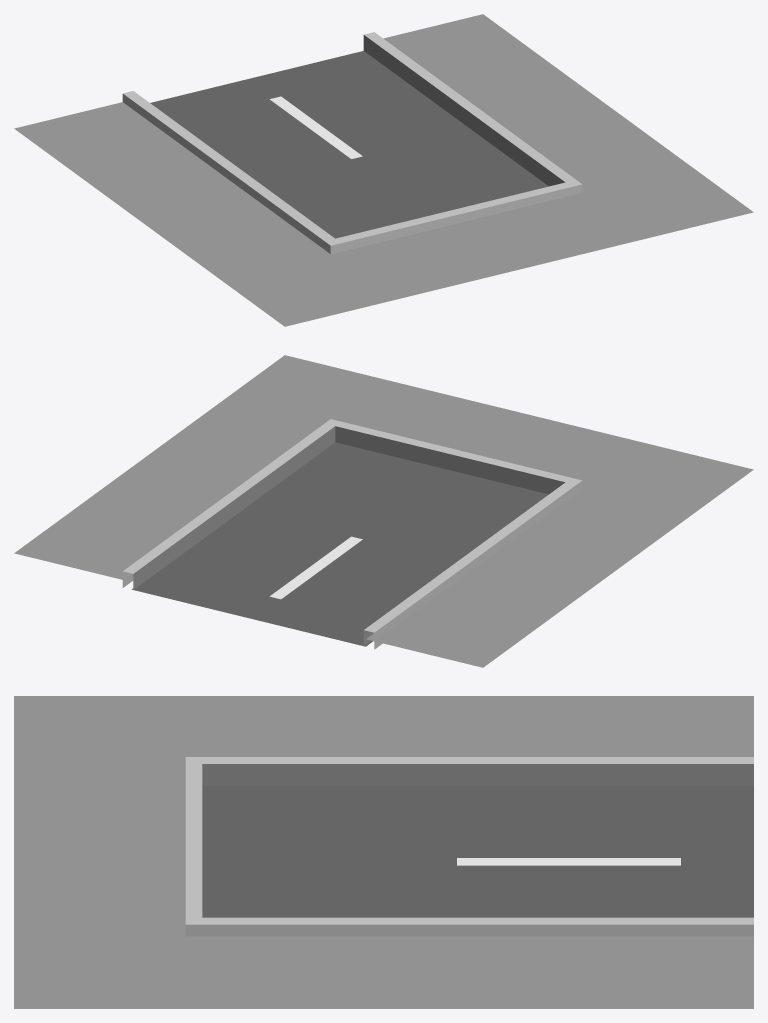
File: street-end-transformed.glb
3 renders of one model, top to bottom at view 1: azimuth 30°, elevation 25°; view 2: azimuth 150°, elevation 25°; view 3: azimuth 270°, elevation 25°, orthographic. The views are drawn at different scales.
Visible parts, largest first — view 1: road_tile_1x1_12; view 2: road_tile_1x1_12; view 3: road_tile_1x1_12.
Boxes of the visible parts, bbox=[...] form: road_tile_1x1_12: bbox=[14, 14, 753, 326]; road_tile_1x1_12: bbox=[14, 355, 753, 667]; road_tile_1x1_12: bbox=[14, 696, 753, 1008].
Size of the model in its own units: 8 by 0.2778 by 8.
Materials: 1 (1 with a texture image).
